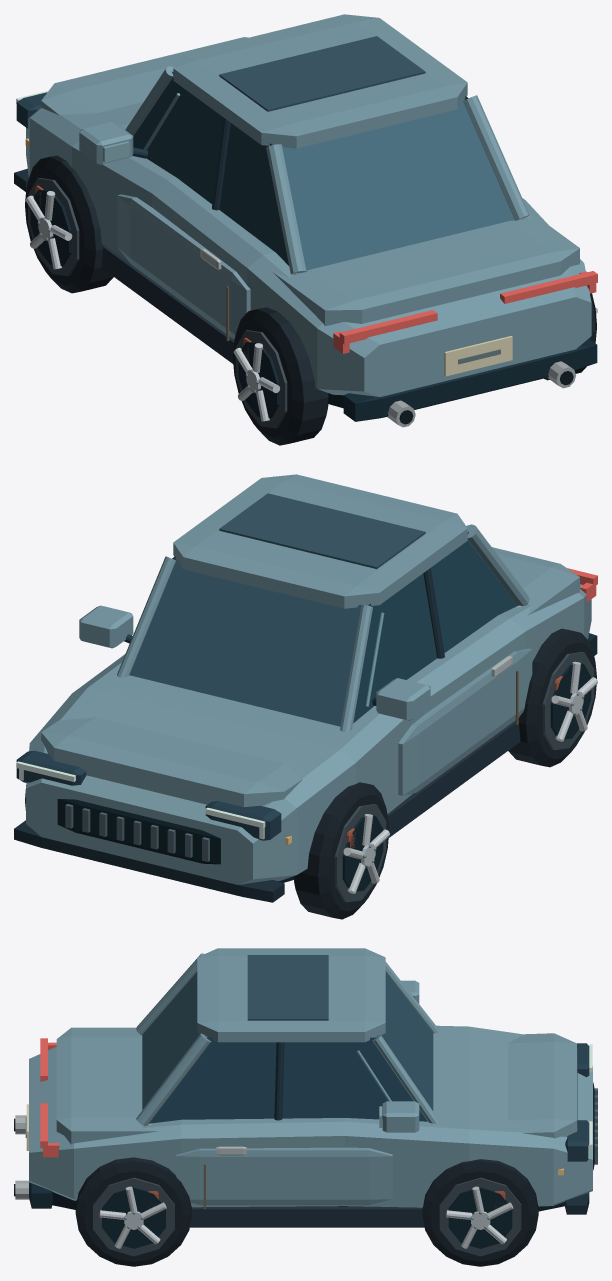
Rendered from sedan.glb.
The picture shows the model from 3 angles, top to bottom: view 1: azimuth 30°, elevation 25°; view 2: azimuth 150°, elevation 25°; view 3: azimuth 270°, elevation 25°; orthographic projection. The views are drawn at different scales.
Visible parts, largest first — view 1: sedan; view 2: sedan; view 3: sedan.
Boxes of the visible parts, x1,y1,x2,y2 form: sedan: [14, 14, 597, 445]; sedan: [14, 474, 597, 919]; sedan: [14, 948, 597, 1266].
Bounding box in the file's own units: 2.54 × 1.92 × 4.62.
